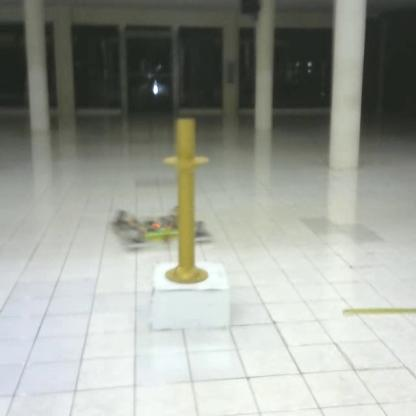pole: (160, 111, 217, 292)
